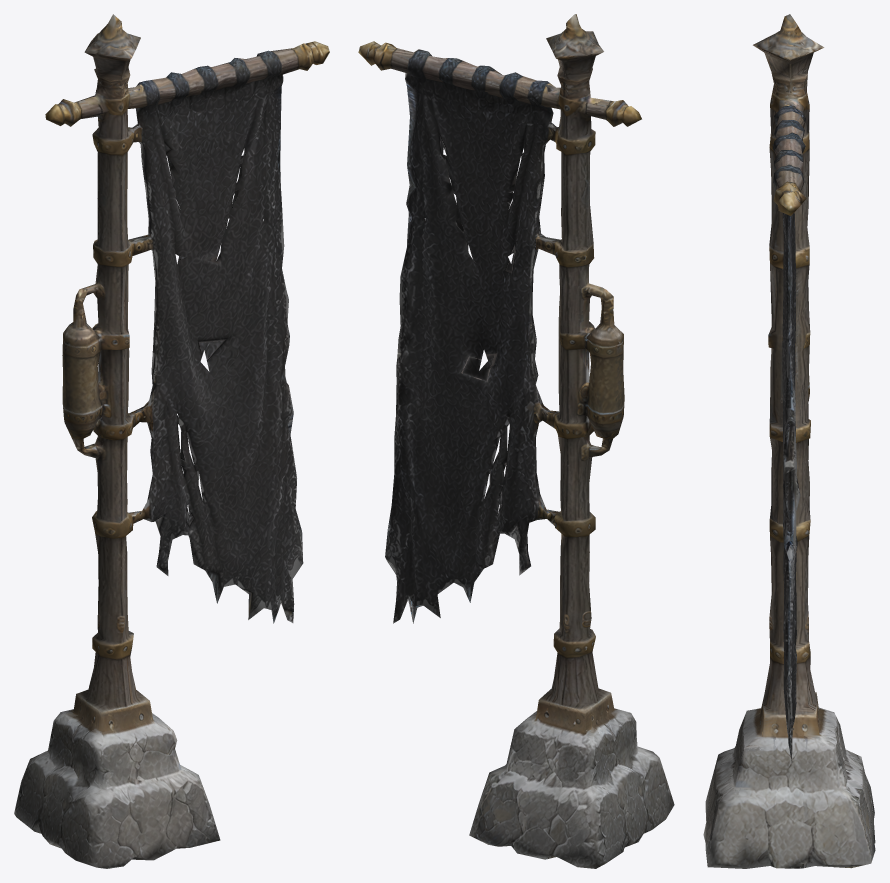
The model's file is PR_BlackWaterBanner.fbx.
3 views of the same model, side by side, from view 1: azimuth 30°, elevation 25°; view 2: azimuth 150°, elevation 25°; view 3: azimuth 270°, elevation 25° (orthographic).
Visible parts, largest first — view 1: texture_mapping; view 2: texture_mapping; view 3: texture_mapping.
Boxes of the visible parts, left/top/right/bottom form: texture_mapping: left=14, top=14, right=329, bottom=868; texture_mapping: left=358, top=14, right=674, bottom=868; texture_mapping: left=703, top=14, right=875, bottom=868.
Size of the model in its own units: 0.3651 by 0.1896 by 1.
Materials: 1 (1 with a texture image).
